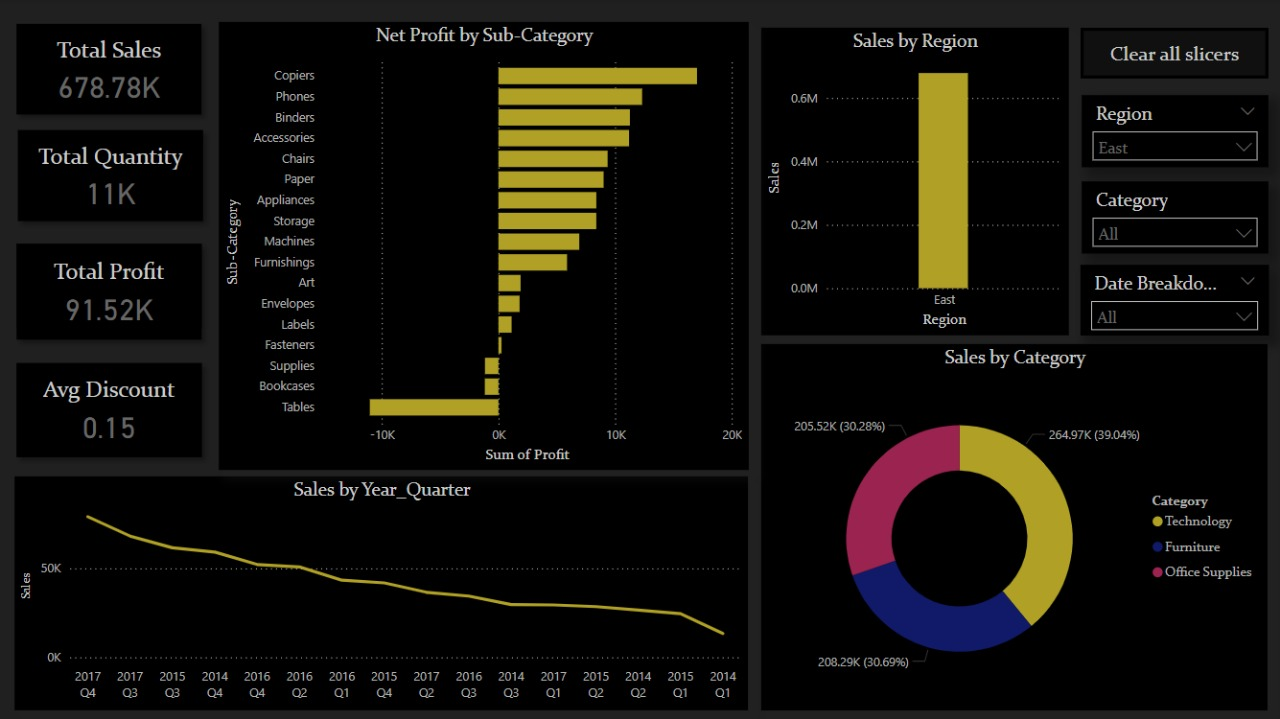

This screenshot's page, from the dashboard's own definition file:
{"tool":"powerbi","page":{"name":"Supermarket Sales Dashboard","canvas":[1280,720],"ordinal":0},"visuals":[{"type":"cardVisual","fields":{"Data":["Sum(Superstore Sales.Sales)"]},"box":[0,6.5,219.6,125.2],"z":0},{"type":"cardVisual","fields":{"Data":["Sum(Superstore Sales.Quantity)"]},"box":[1.6,113.9,219.6,125.2],"z":1000},{"type":"lineChart","title":"Sales by Year_Quarter","fields":{"Y":["Sum(Superstore_Sales.Sales)"],"Category":["Superstore_Sales.Year_Quarter"]},"box":[16.3,475,730.3,232.6],"z":2000},{"type":"clusteredColumnChart","fields":{"Category":["Superstore_Sales.Region"],"Y":["Sum(Superstore_Sales.Sales)"]},"box":[759.6,29.3,305.8,305.8],"z":3000},{"type":"donutChart","title":"Sales by Category","fields":{"Y":["Sum(Superstore_Sales.Sales)"],"Category":["Superstore_Sales.Category"]},"box":[759.6,343.2,504.2,364.3],"z":4000},{"type":"slicer","fields":{"Values":["Superstore_Sales.Region"]},"box":[1078.4,96,185.4,71.6],"z":5000},{"type":"slicer","fields":{"Values":["Superstore_Sales.Category"]},"box":[1078.4,182.2,185.4,71.6],"z":6000},{"type":"clusteredBarChart","title":"Net Profit by Sub-Category","fields":{"Category":["Superstore_Sales.Sub-Category"],"Y":["Sum(Superstore_Sales.Profit)"]},"box":[219.6,22.8,527,445.7],"z":7000},{"type":"cardVisual","fields":{"Data":["Sum(Superstore_Sales.Profit)"]},"box":[0,226.1,219.6,130.1],"z":8000},{"type":"cardVisual","fields":{"Data":["Superstore_Sales.Avg Discount"]},"box":[0,344.8,219.6,128.5],"z":9000},{"type":"slicer","fields":{"Values":["Superstore_Sales.Order Date.Variation.Date Hierarchy.Year","Superstore_Sales.Order Date.Variation.Date Hierarchy.Quarter","Superstore_Sales.Order Date.Variation.Date Hierarchy.Month","Superstore_Sales.Order Date.Variation.Date Hierarchy.Day"]},"box":[1076.8,265.1,187.1,69.9],"z":10000},{"type":"actionButton","box":[1076.8,29.3,187.1,50.4],"z":13000}]}

Visuals, with their boxes in screenshot pixels (x1, y1, x2, y2), scaled from the page's 1280x720 canvas onto the 1280x719 screenshot:
cardVisual - Sum(Superstore Sales.Sales): box=[0, 6, 220, 132]
cardVisual - Sum(Superstore Sales.Quantity): box=[2, 114, 221, 239]
"Sales by Year_Quarter" lineChart: box=[16, 474, 747, 707]
clusteredColumnChart - Superstore_Sales.Region x Sum(Superstore_Sales.Sales): box=[760, 29, 1065, 335]
"Sales by Category" donutChart: box=[760, 343, 1264, 707]
slicer - Superstore_Sales.Region: box=[1078, 96, 1264, 167]
slicer - Superstore_Sales.Category: box=[1078, 182, 1264, 253]
"Net Profit by Sub-Category" clusteredBarChart: box=[220, 23, 747, 468]
cardVisual - Sum(Superstore_Sales.Profit): box=[0, 226, 220, 356]
cardVisual - Superstore_Sales.Avg Discount: box=[0, 344, 220, 473]
slicer - Superstore_Sales.Order Date.Variation.Date Hierarchy.Year x Superstore_Sales.Order Date.Variation.Date Hierarchy.Quarter: box=[1077, 265, 1264, 335]
actionButton: box=[1077, 29, 1264, 80]
